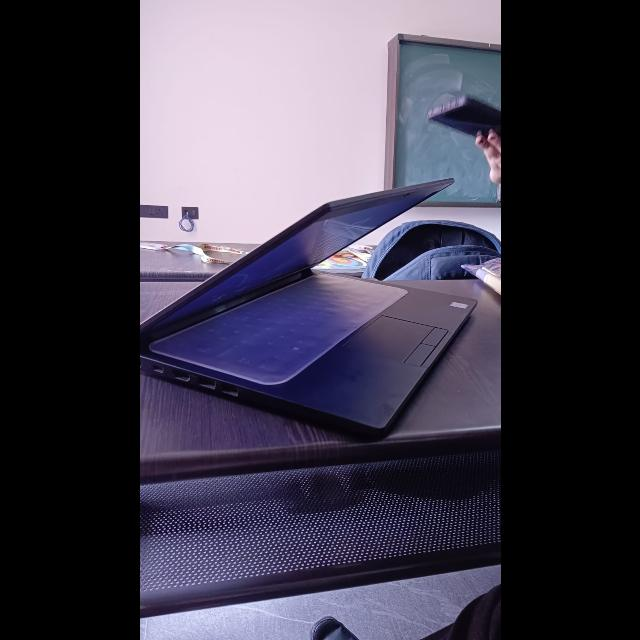laptop: (144, 173, 501, 437)
